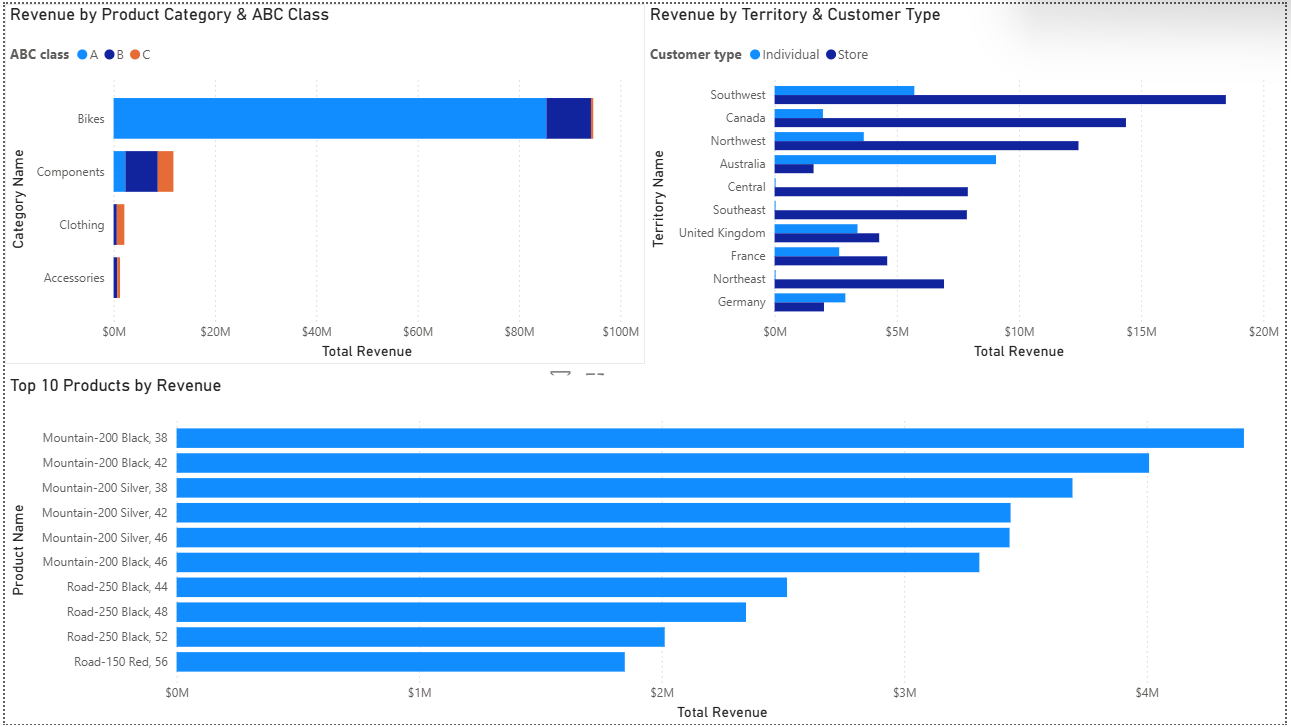

This screenshot's page, from the dashboard's own definition file:
{"tool":"powerbi","page":{"name":"Product & Geography","canvas":[1280,720],"ordinal":2},"visuals":[{"type":"barChart","title":"Revenue by Product Category & ABC Class","fields":{"Category":["vw_product_abc.category_name"],"Series":["vw_product_abc.abc_class"],"Y":["vw_sales_analysis.Total Revenue"]},"box":[0,0,639.5,359.5],"z":0},{"type":"clusteredBarChart","title":"Revenue by Territory & Customer Type ","fields":{"Category":["vw_sales_analysis.territory_name"],"Series":["vw_customer_rfm.customer_type"],"Y":["vw_sales_analysis.Total Revenue"]},"box":[639.5,0,639.5,359.5],"z":1},{"type":"clusteredBarChart","title":"Top 10 Products by Revenue","fields":{"Category":["vw_product_abc.product_name"],"Y":["vw_sales_analysis.Total Revenue"]},"box":[0,370.8,1280.3,349.5],"z":2}]}

Visuals, with their boxes in screenshot pixels (x1, y1, x2, y2), scaled from the page's 1280x720 canvas onto the 1291x727 screenshot:
"Revenue by Product Category & ABC Class" barChart: locate(0, 0, 645, 363)
"Revenue by Territory & Customer Type " clusteredBarChart: locate(645, 0, 1290, 363)
"Top 10 Products by Revenue" clusteredBarChart: locate(0, 374, 1290, 726)
